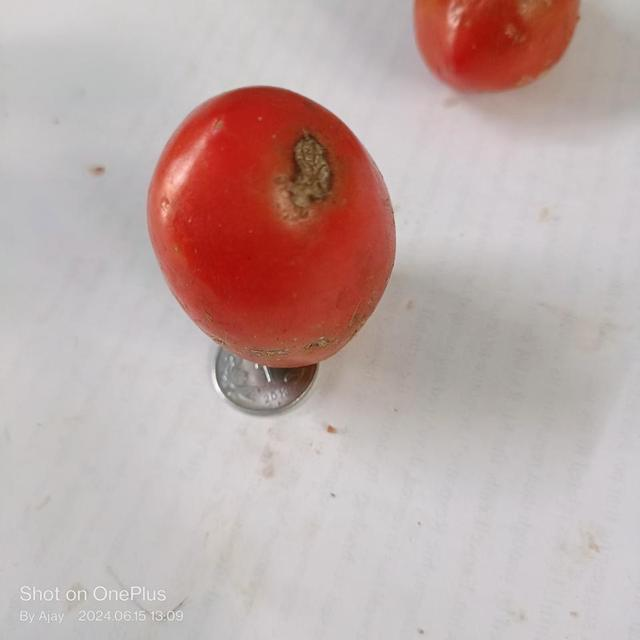Bacterial Spot Fruit: (191, 90, 225, 134)
